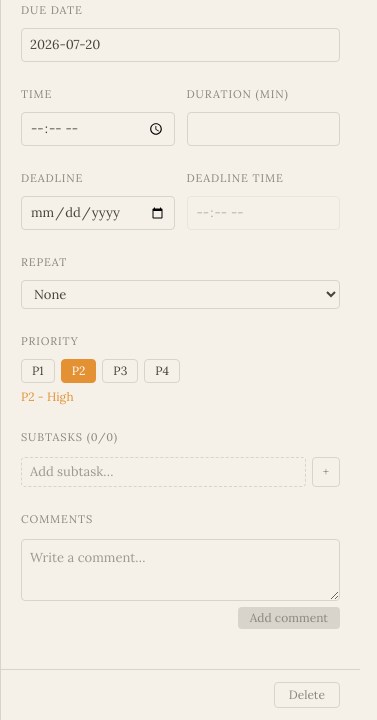
Test: TaskDetail › delete first click shows confirm label
(page scrolled)
Click the button "Delete". click: point(307, 695)
box: top-left (274, 682), bottom-right (340, 708)
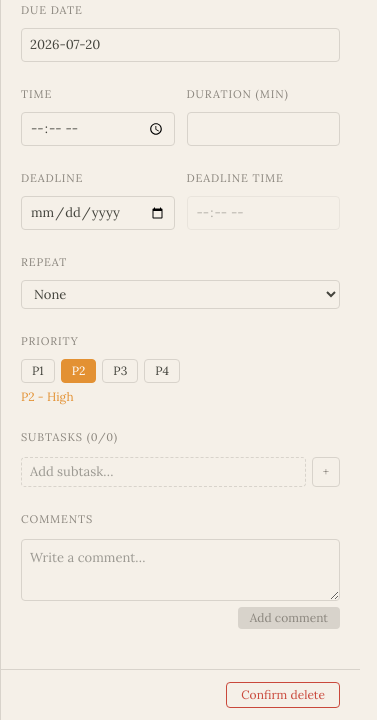
Now the button "Confirm delete" is shown, box top-left (226, 682), bottom-right (340, 708)
